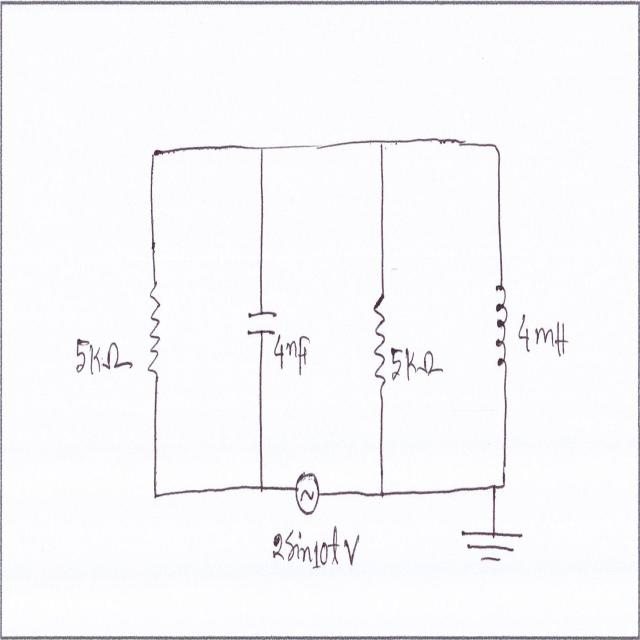ac_current: (292, 466, 324, 521)
capacitor: (241, 304, 281, 340)
ground: (455, 519, 527, 567)
inductor: (494, 277, 512, 380)
resistor: (146, 277, 165, 385), (371, 291, 390, 390)
